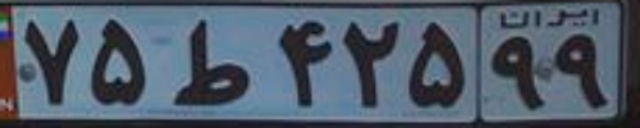2: (342, 20, 399, 109)
4: (277, 20, 333, 107)
5: (87, 18, 153, 105), (404, 21, 465, 108)
7: (18, 18, 79, 104)
9: (486, 35, 544, 109), (554, 31, 607, 109)
taa: (173, 18, 251, 105)
